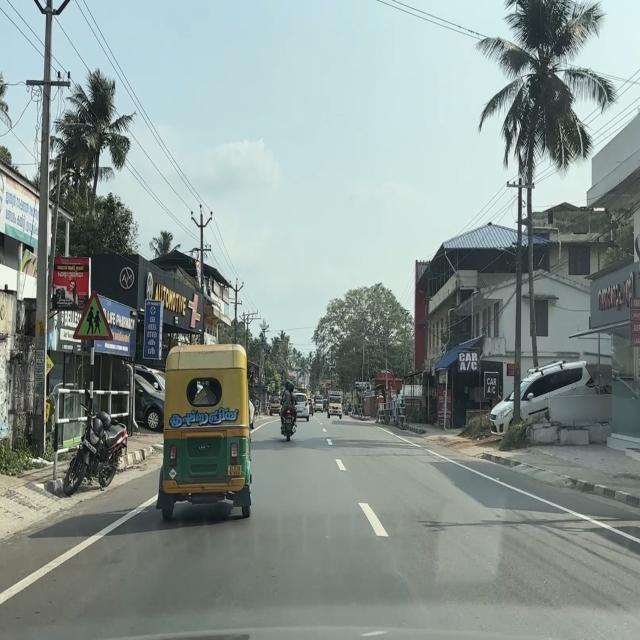SCHOOL_AHEAD: (72, 288, 114, 341)
